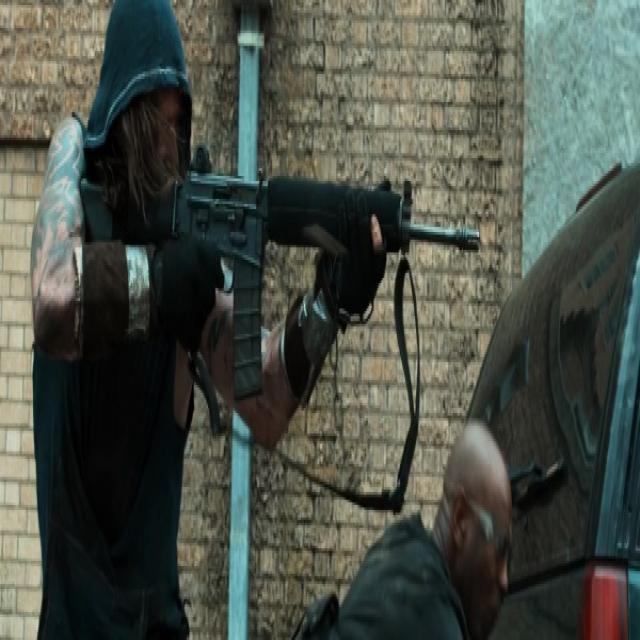rifle: (78, 161, 484, 405)
